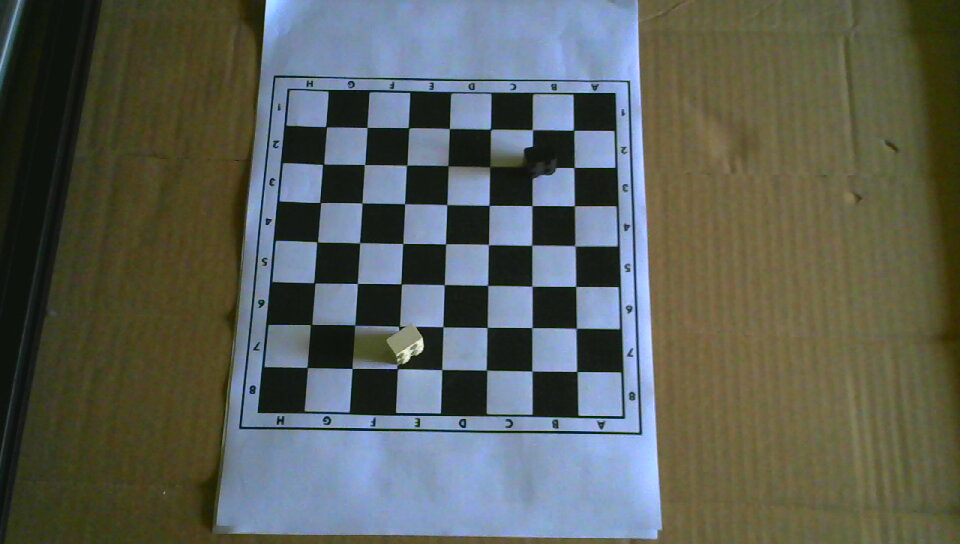bp: (522, 142, 558, 179)
wp: (384, 323, 425, 365)
